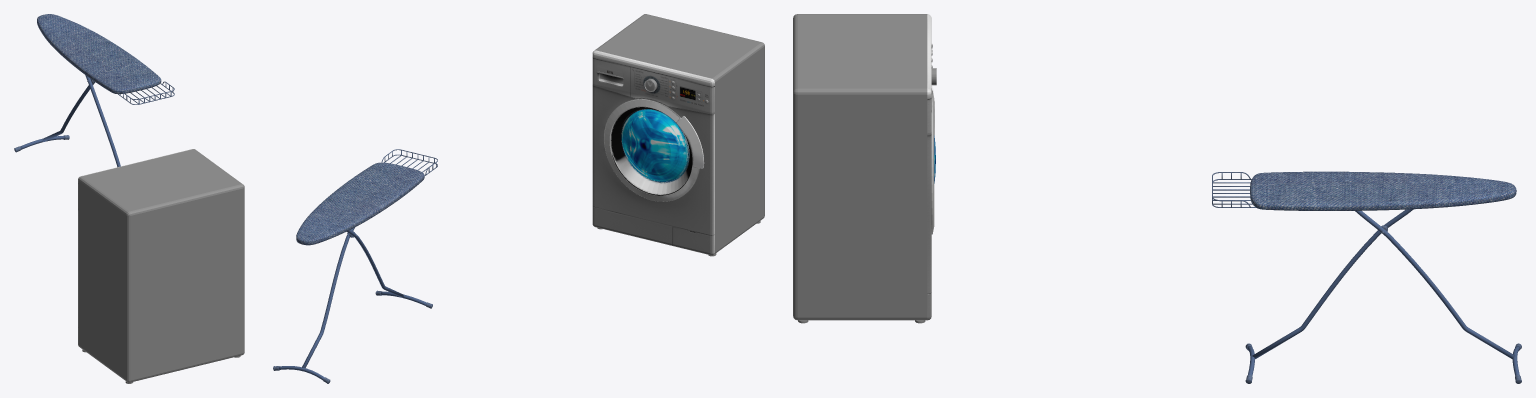
File: Lavanderia.obj
3 views of the same model, side by side, from view 1: azimuth 30°, elevation 25°; view 2: azimuth 150°, elevation 25°; view 3: azimuth 270°, elevation 25° (orthographic). The views are drawn at different scales.
Visible parts, largest first — view 1: WashM3_OBJ, ironing_table; view 2: WashM3_OBJ, ironing_table; view 3: WashM3_OBJ, ironing_table.
Boxes of the visible parts, box(x1,y1,x2,y2) form: WashM3_OBJ: box(78, 149, 244, 383); ironing_table: box(14, 14, 174, 167); WashM3_OBJ: box(592, 14, 764, 256); ironing_table: box(273, 149, 437, 383); WashM3_OBJ: box(793, 14, 936, 323); ironing_table: box(1212, 171, 1521, 383).
Bounding box in the file's own units: 7.28 × 5.76 × 16.24.
3 materials, 3 textured.
